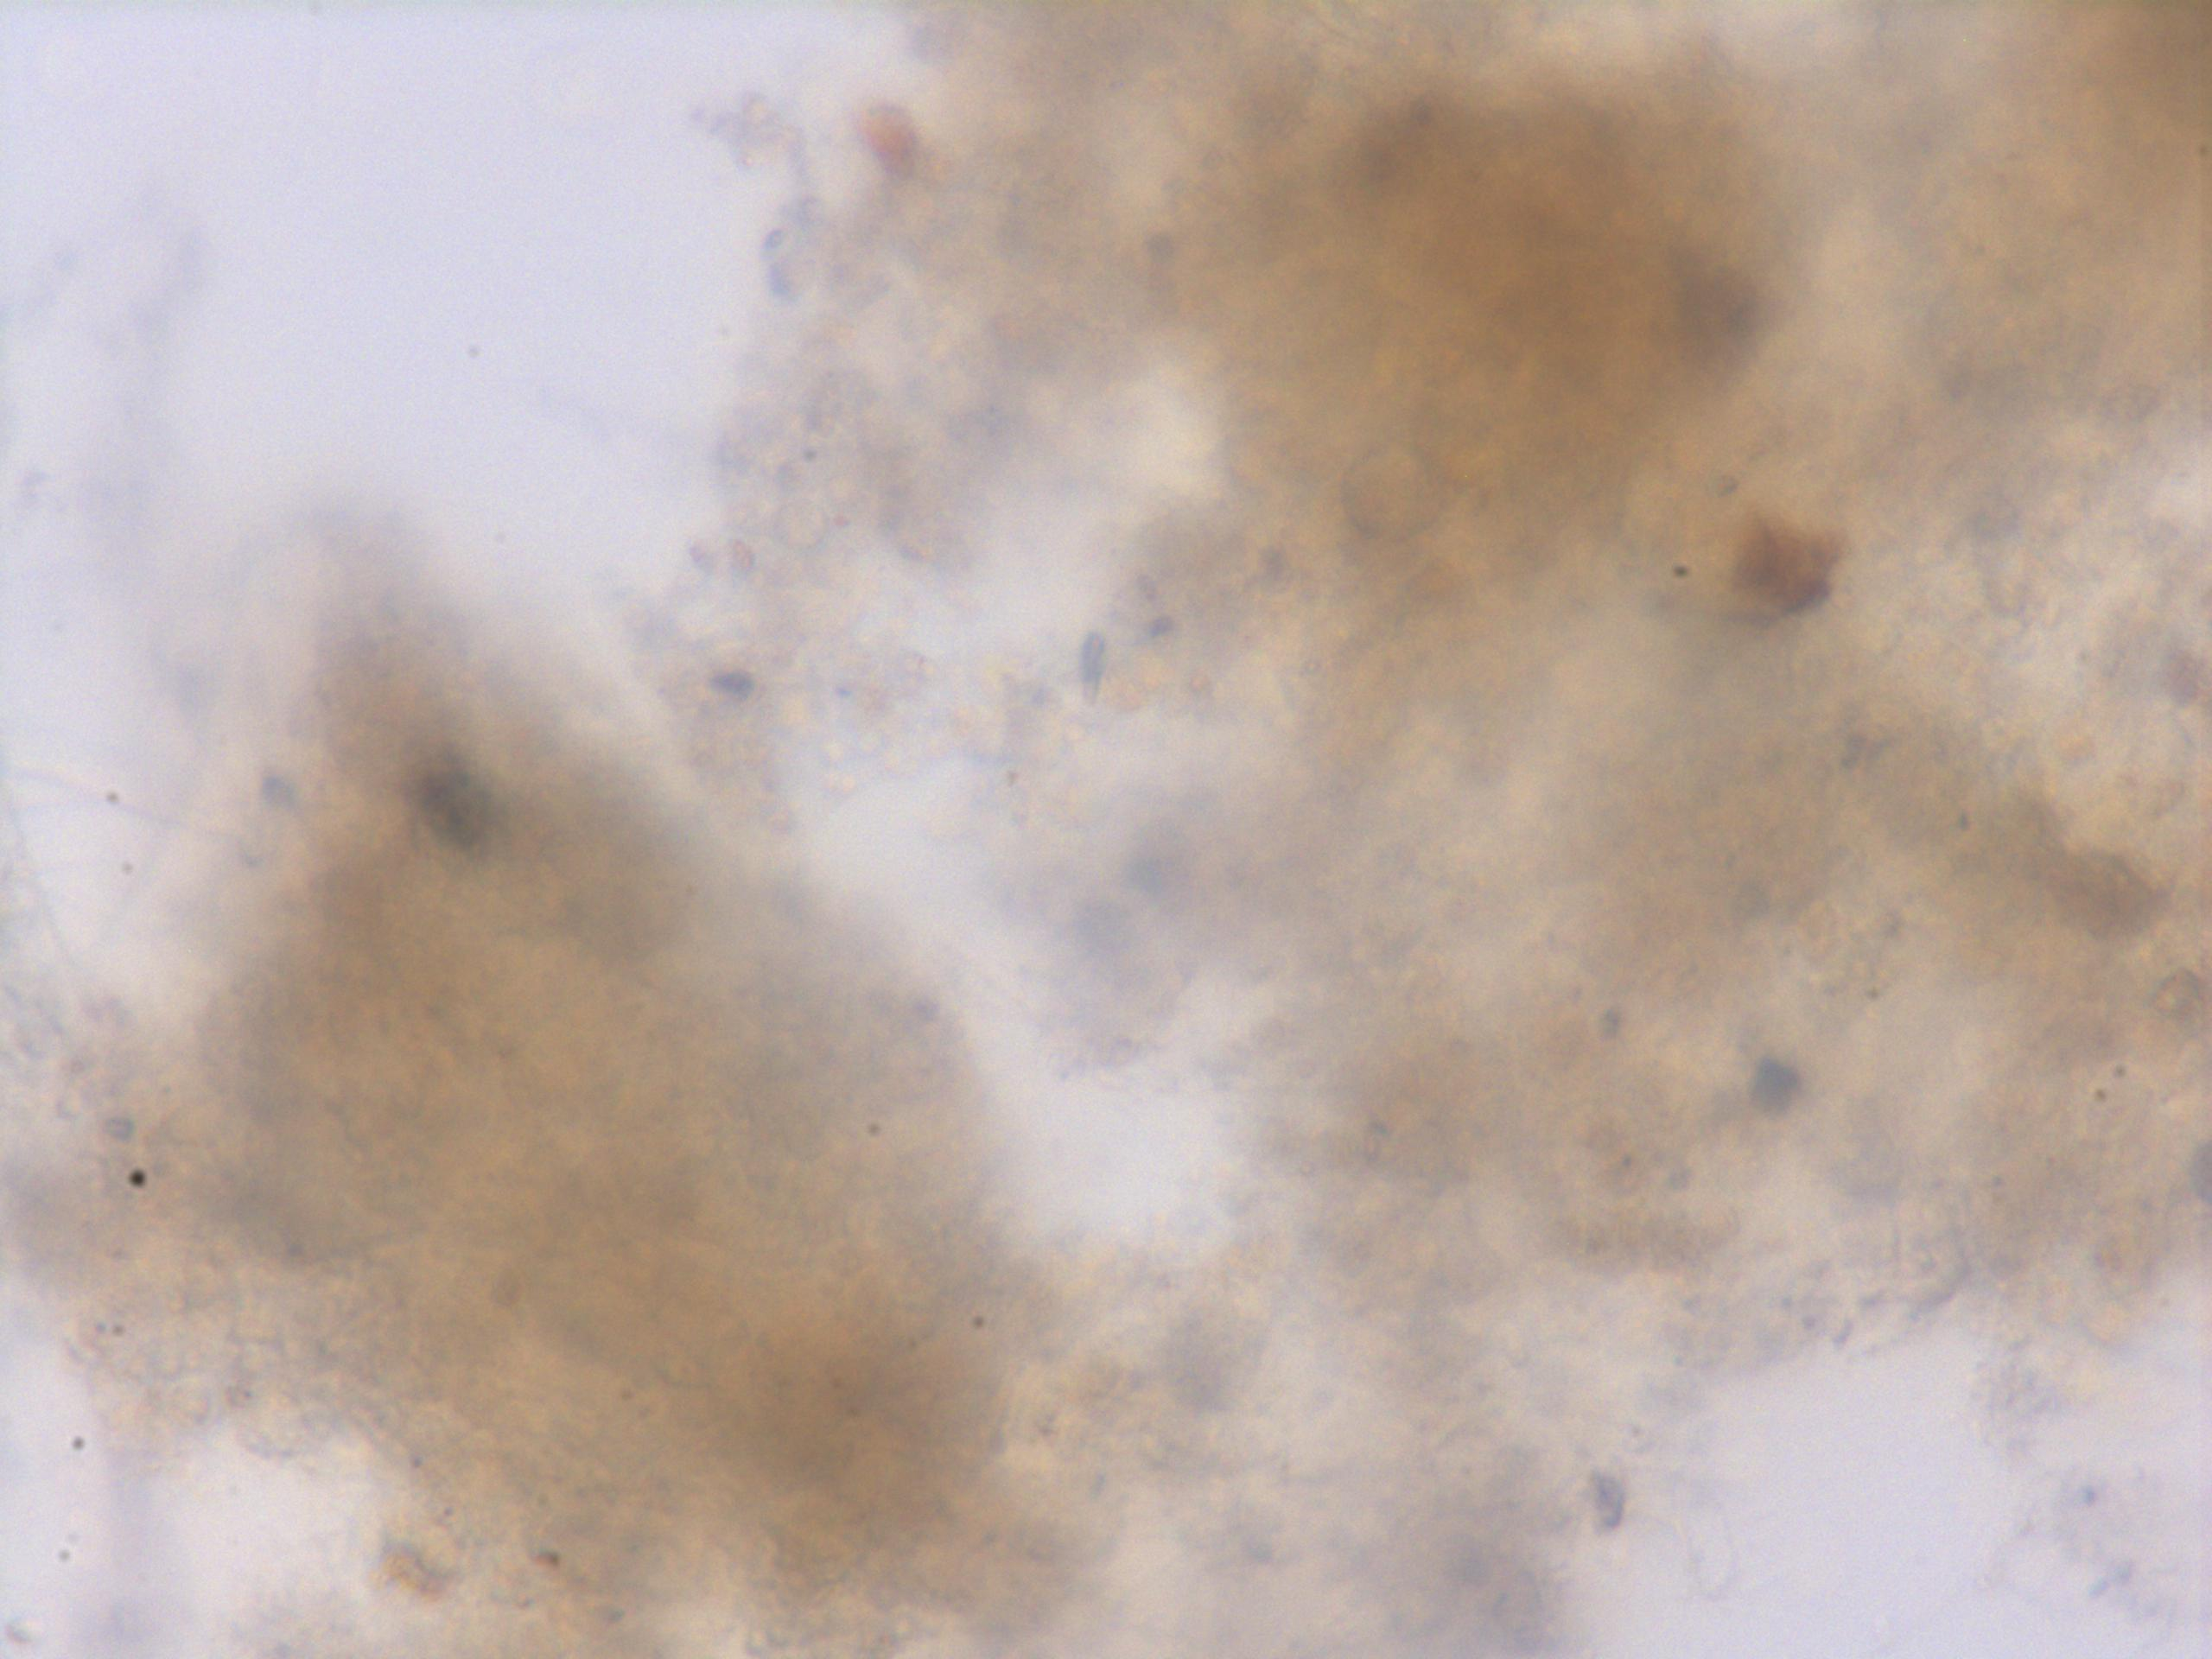open_floc: (0, 0, 2212, 1652)
